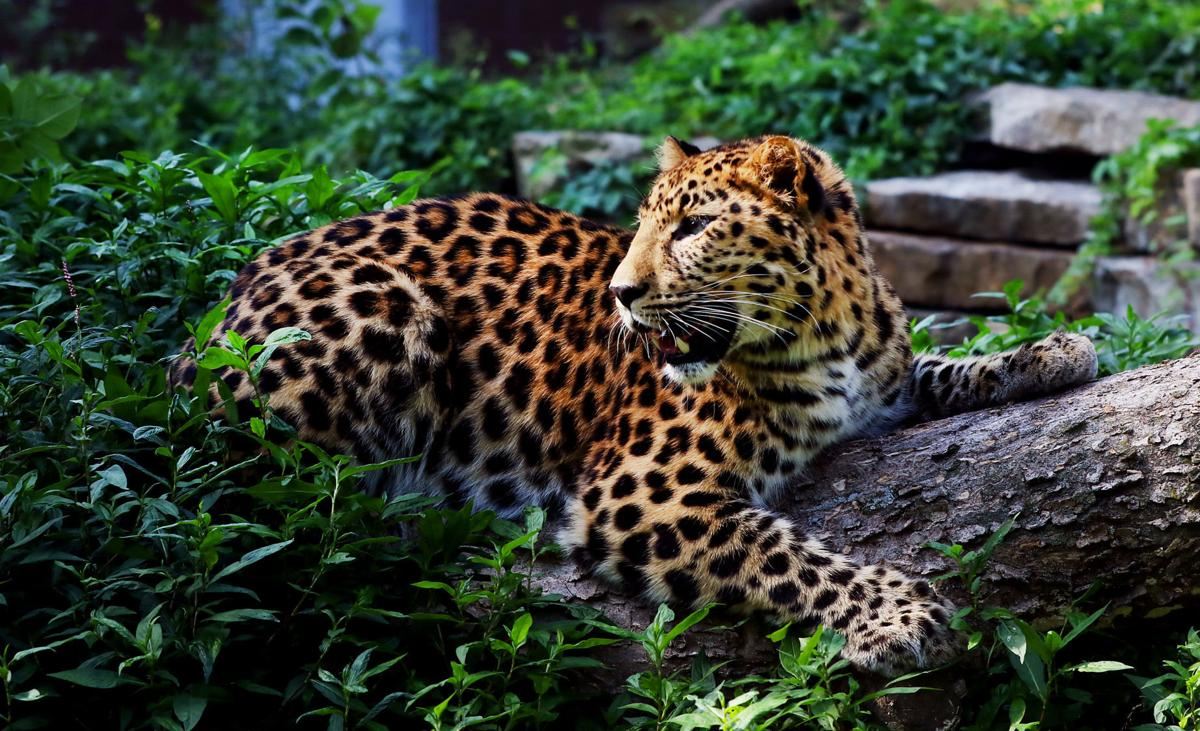amur_leopard: (228, 68, 1090, 666)
